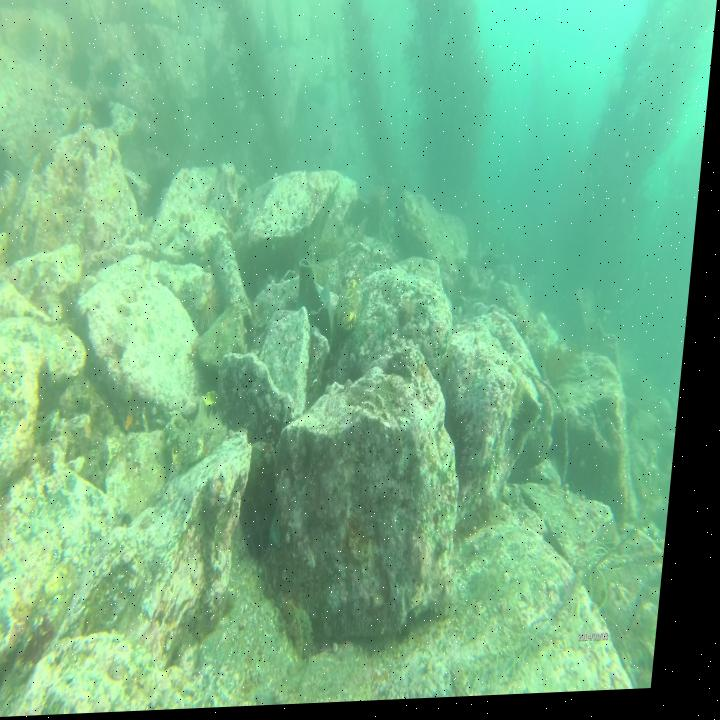echinus: (191, 279, 230, 335)
